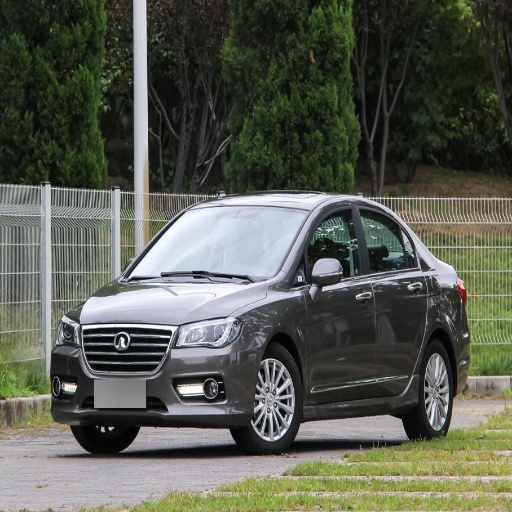back_left_door: (356, 201, 427, 393)
front_bumper: (51, 322, 264, 426)
front_glass: (123, 210, 308, 279)
front_left_door: (301, 202, 376, 400)
